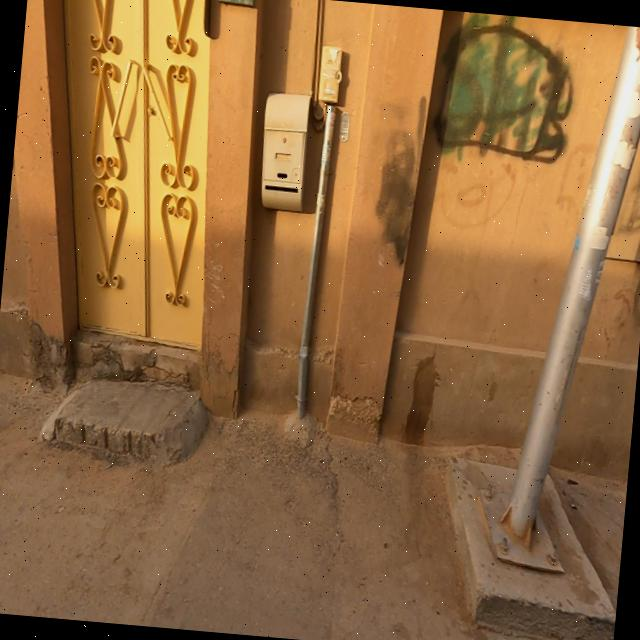Graffiti: (431, 11, 581, 166), (430, 152, 516, 327), (371, 91, 422, 267), (624, 126, 640, 344), (552, 142, 590, 212)
